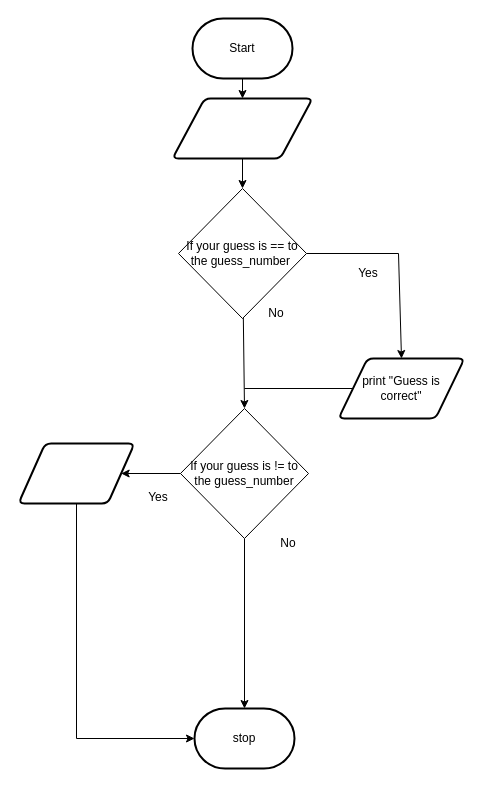
Some shapes in this 482 by 786 pixel diagram are drawn without their labels. Here are the shapes that lost their labels. From the top down, the centre of each, then its label:
point 242,128: Get guess_number
point 76,473: print "Guess is incorrect"
